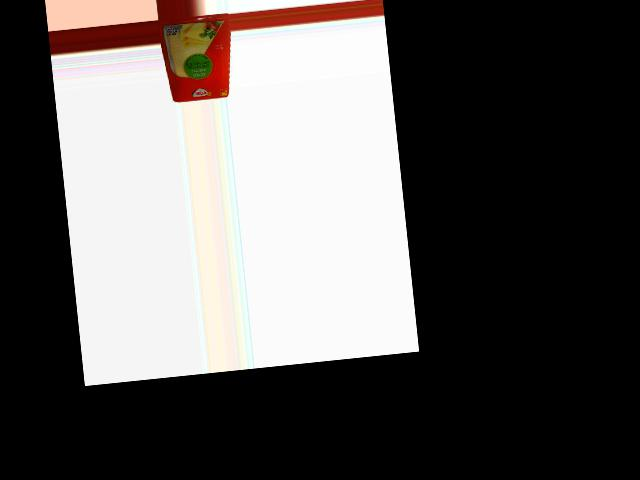cheese: (159, 12, 237, 102)
